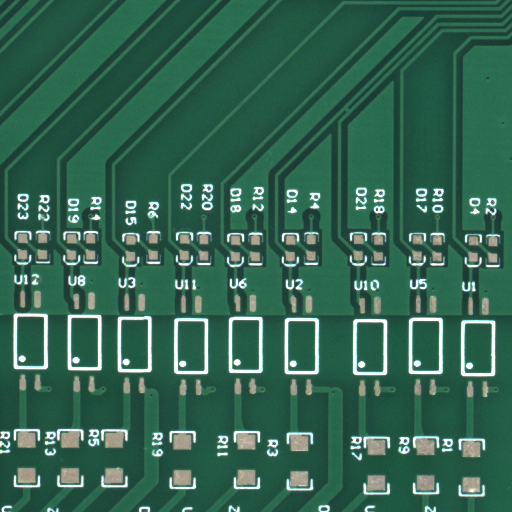Short: (345, 110, 353, 117)
